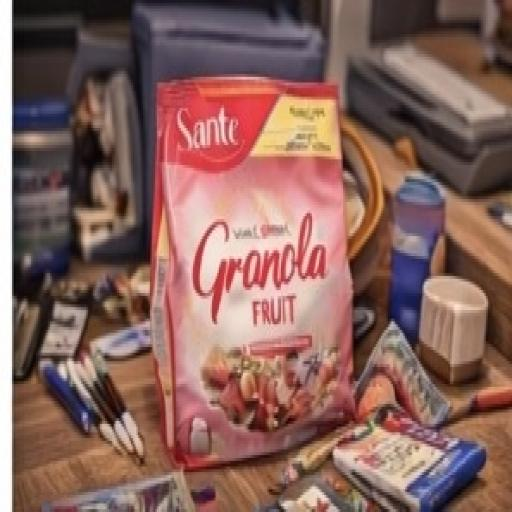granola: (133, 58, 380, 474)
